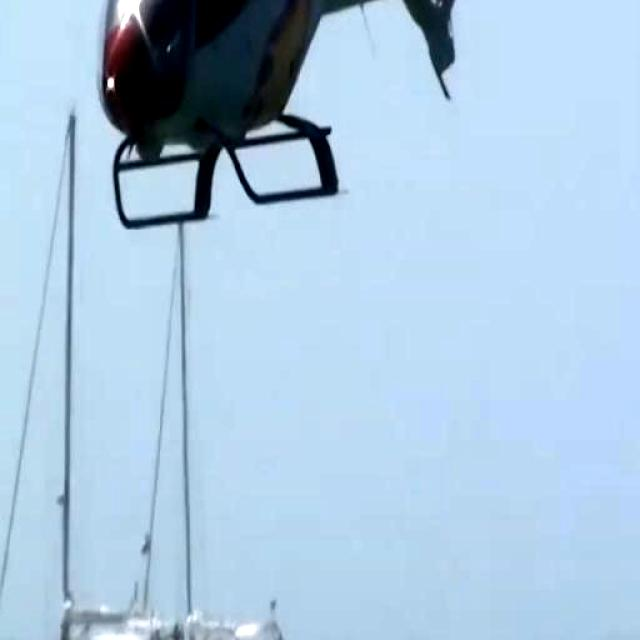drone: (94, 0, 516, 230)
